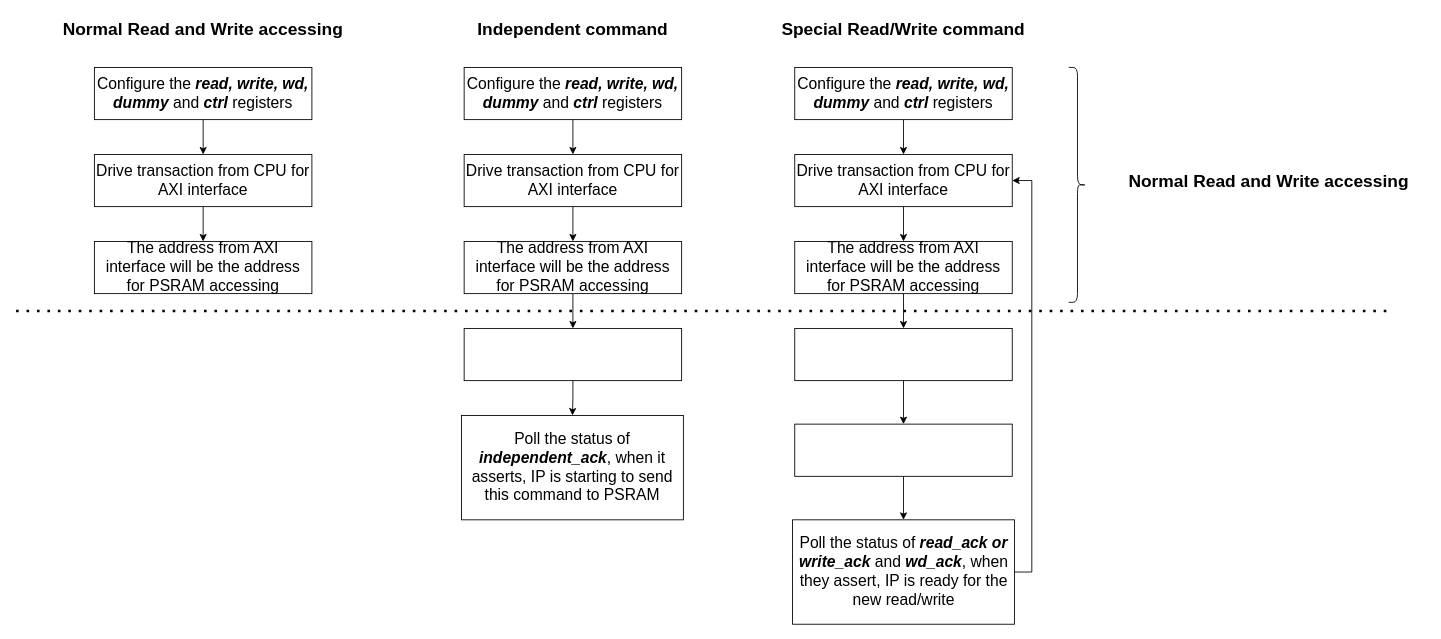
Image size: 1441x639. Some labels were removed from this diagram. The shapes that lost their labels are listed below. From the top down, each one's box as (x1, y1, x2, y2) in pixels, then its label:
(463, 328, 682, 381): Configure the independent_cmd, independent_req
(794, 328, 1012, 381): Configure the read_cmd and read_req or write_cmd and write_req
(794, 423, 1012, 476): Configure the wd_data, wd_addr and wd_req
